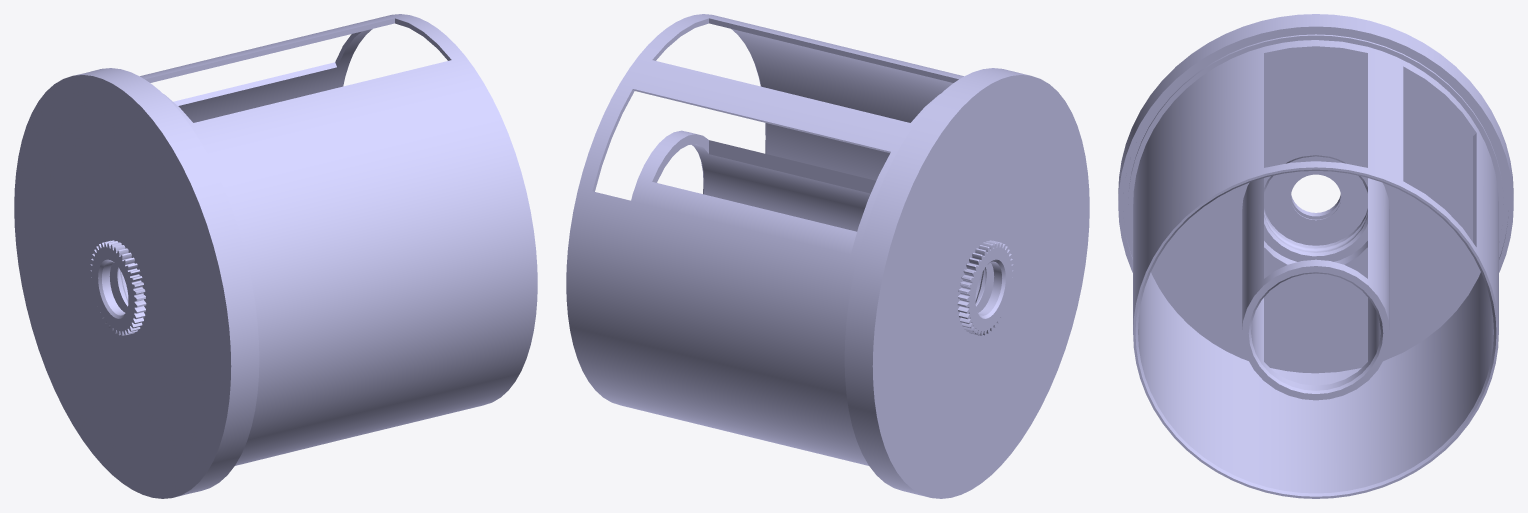
File: BPL00-PRO-4001_final v1.fbx
3 renders of one model, left to right at view 1: azimuth 30°, elevation 25°; view 2: azimuth 150°, elevation 25°; view 3: azimuth 270°, elevation 25°, orthographic. The views are drawn at different scales.
Parts seen in each view (by area): view 1: Body1; view 2: Body1; view 3: Body1.
Part boxes in pixels (box(x1,y1,x2,y2)): Body1: box(14, 14, 537, 498); Body1: box(566, 14, 1089, 498); Body1: box(1118, 14, 1513, 498).
Bounding box in the file's own units: 690 × 800 × 800.
